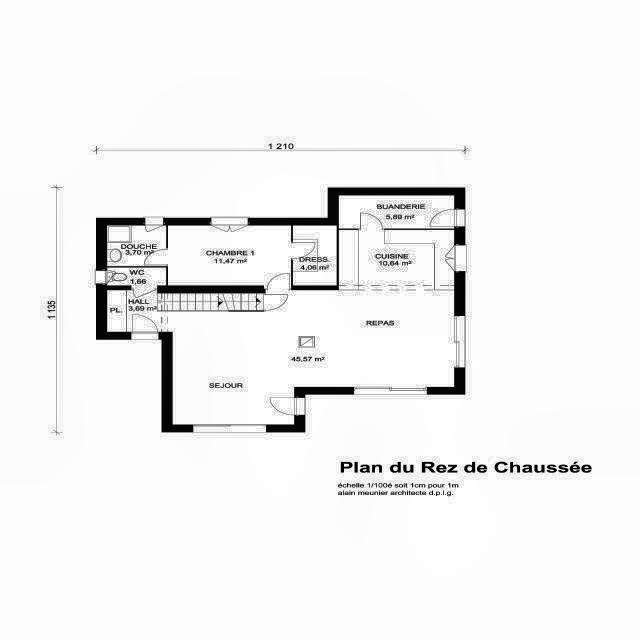room: (107, 290, 457, 425), (168, 226, 291, 286), (339, 230, 454, 286), (339, 195, 454, 229), (293, 226, 337, 286), (107, 225, 166, 266), (157, 293, 264, 310), (107, 267, 166, 286)
